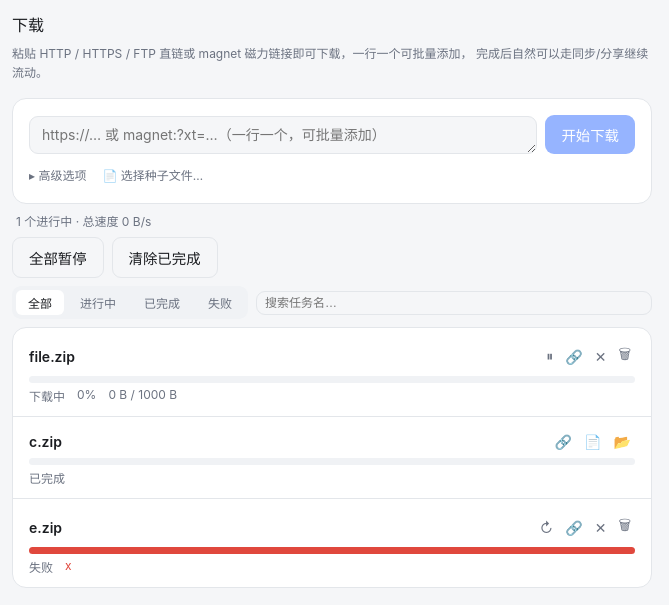
it: DownloadPage › 筛选 tab 只显示对应状态的任务
Expected: the number of elements with class "drow" is 3, x1=13 y1=328 x2=651 y2=416; x1=13 y1=416 x2=651 y2=498; x1=13 y1=498 x2=651 y2=587
What coordinates should you click on to do the following:
click the button with class "tab" showing "已完成"
I would click on:
 (162, 303)
Its box is x1=132 y1=290 x2=192 y2=315.
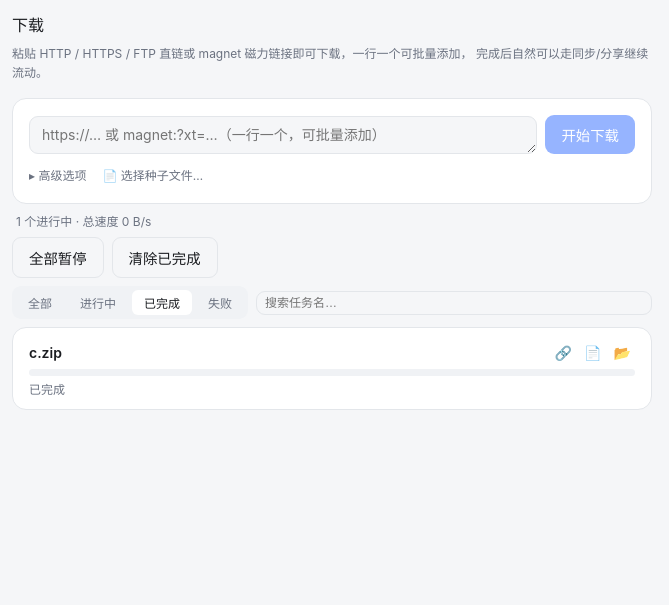
Expected: the text "c.zip" is shown, x1=29 y1=344 x2=62 y2=361
Now the number of elements with class "drow" is 1, box x1=13 y1=328 x2=651 y2=409
What coordinates should you click on to do the following:
click the button with class "tab" showing "失败"
I would click on:
 (220, 303)
Its box is x1=196 y1=290 x2=244 y2=315.
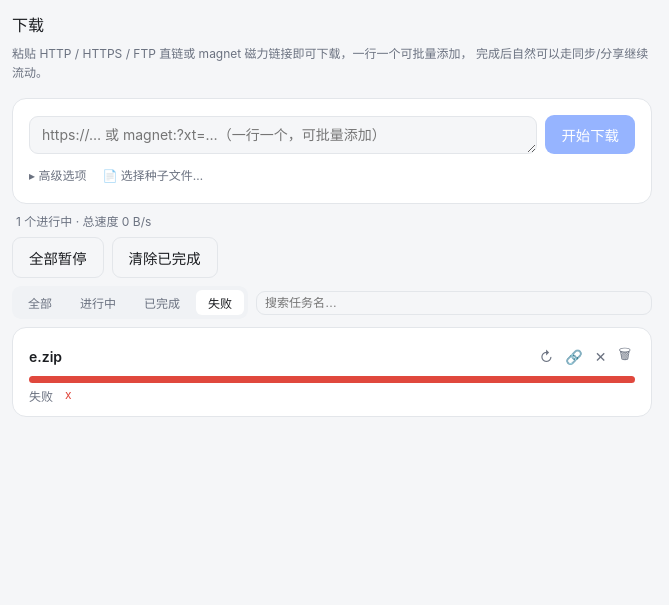
Now the number of elements with class "drow" is 1, box x1=13 y1=328 x2=651 y2=416
Now the text "e.zip" is shown, box x1=29 y1=348 x2=62 y2=365
